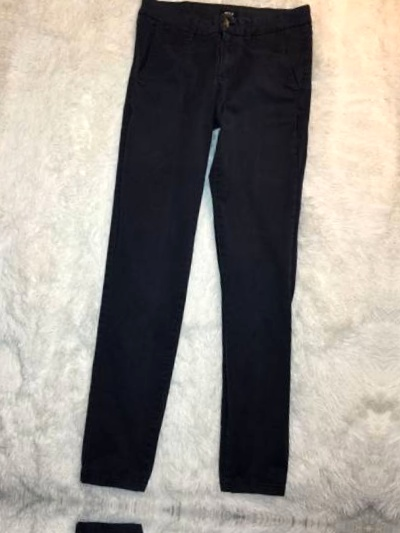Pants: (57, 0, 360, 506), (8, 519, 311, 533)
